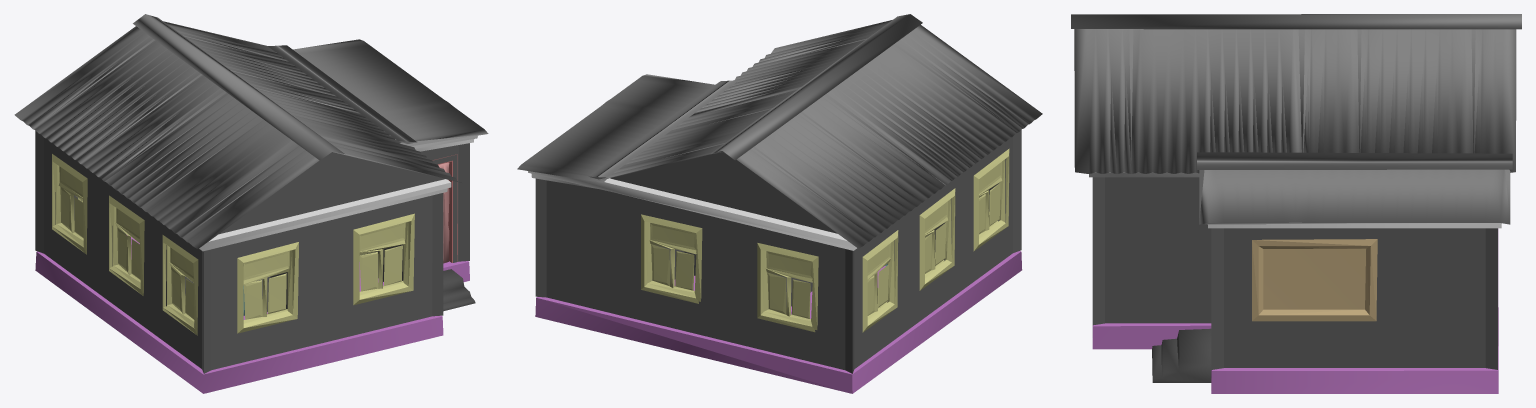
File: house4.fbx
3 renders of one model, left to right at view 1: azimuth 30°, elevation 25°; view 2: azimuth 150°, elevation 25°; view 3: azimuth 270°, elevation 25°, orthographic. The views are drawn at different scales.
Parts seen in each view (by area): view 1: house_LOD2, door1_LOD2; view 2: house_LOD2; view 3: house_LOD2.
Boxes of the visible parts, x1,y1,x2,y2 form: house_LOD2: (14, 14, 488, 393); door1_LOD2: (438, 162, 449, 263); house_LOD2: (517, 14, 1042, 393); house_LOD2: (1071, 14, 1521, 393).
Size of the model in its own units: 722 by 443 by 683.
